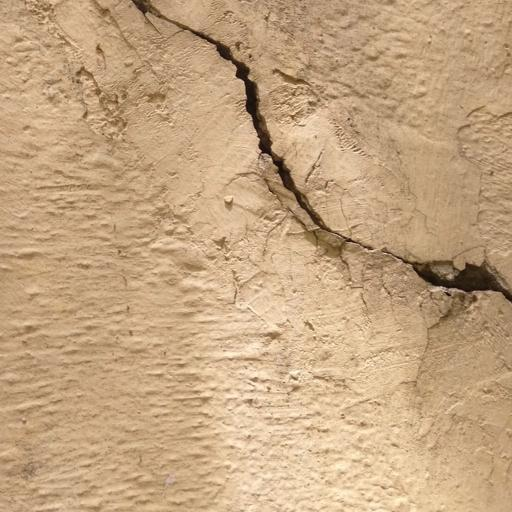major_crack: (121, 0, 511, 309)
